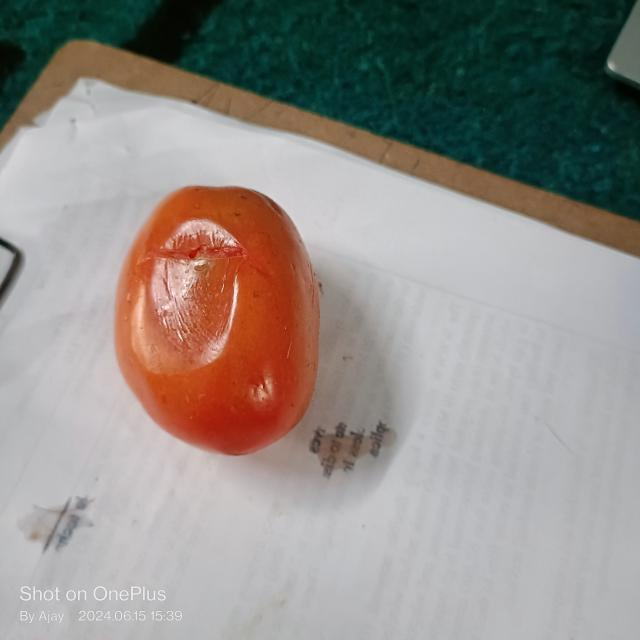Botrytis: (142, 242, 246, 267)
